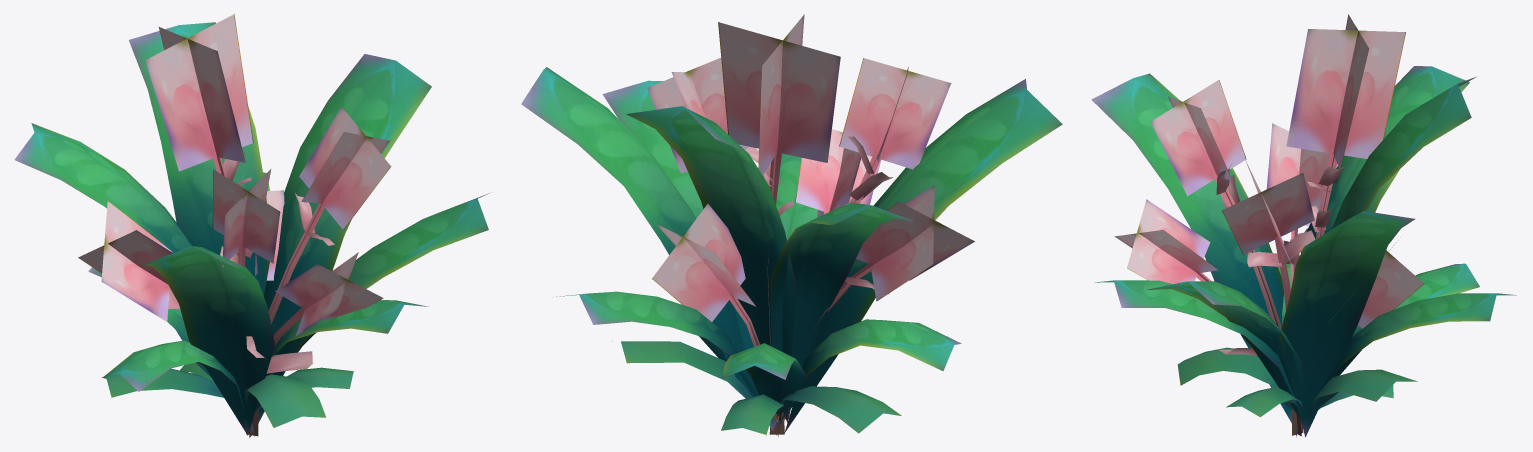
File: Homeworld_Exterior_Common_Prop_Flower_FloralDesign_01_Vo.fbx
3 renders of one model, left to right at view 1: azimuth 30°, elevation 25°; view 2: azimuth 150°, elevation 25°; view 3: azimuth 270°, elevation 25°, orthographic. The views are drawn at different scales.
Parts seen in each view (by area): view 1: Homeworld_Exterior_Common_Prop_Flower_FloralDesign_01_Vo; view 2: Homeworld_Exterior_Common_Prop_Flower_FloralDesign_01_Vo; view 3: Homeworld_Exterior_Common_Prop_Flower_FloralDesign_01_Vo.
Boxes of the visible parts, box(x1,y1,x2,y2) form: Homeworld_Exterior_Common_Prop_Flower_FloralDesign_01_Vo: box(14, 14, 489, 437); Homeworld_Exterior_Common_Prop_Flower_FloralDesign_01_Vo: box(521, 14, 1062, 436); Homeworld_Exterior_Common_Prop_Flower_FloralDesign_01_Vo: box(1091, 14, 1516, 437).
Size of the model in its own units: 0.4071 by 0.4018 by 0.392.
